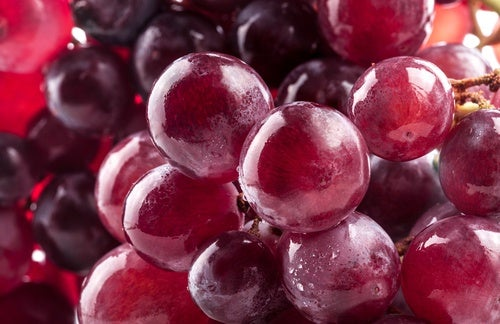Red Grapes: (248, 110, 375, 236), (159, 64, 276, 186)
